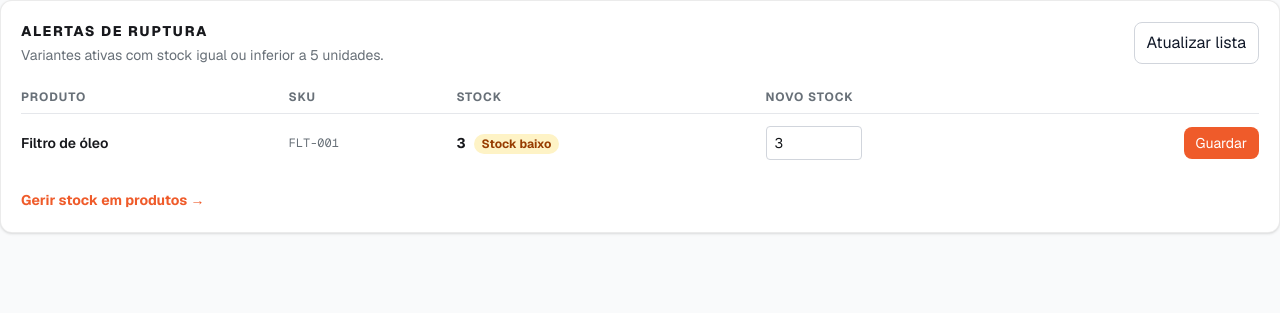
Scenario: InventoryAlerts › mostra o erro do servidor quando o stock é inválido
The image size is (1280, 313).
Replace the text in the number field named "Novo stock de FLT-001" with "-2": (814, 143) [766,126,862,160]
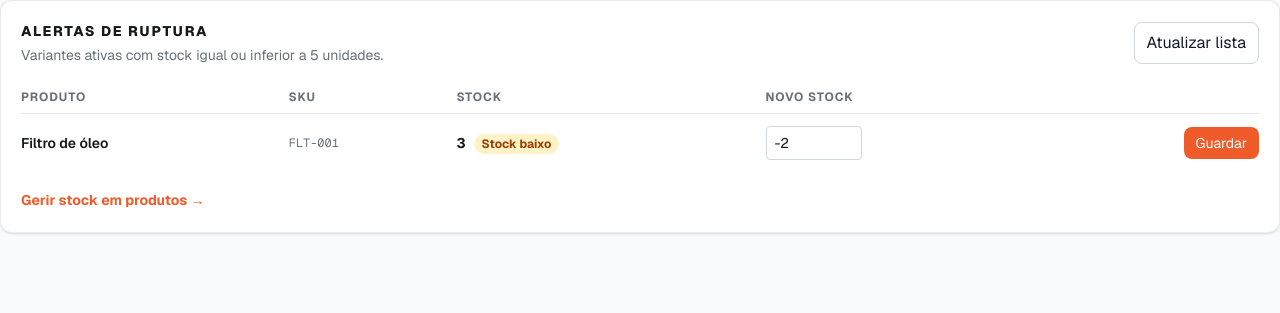
Click the button named "Guardar stock de FLT-001": (1221, 143) [1184,127,1259,159]
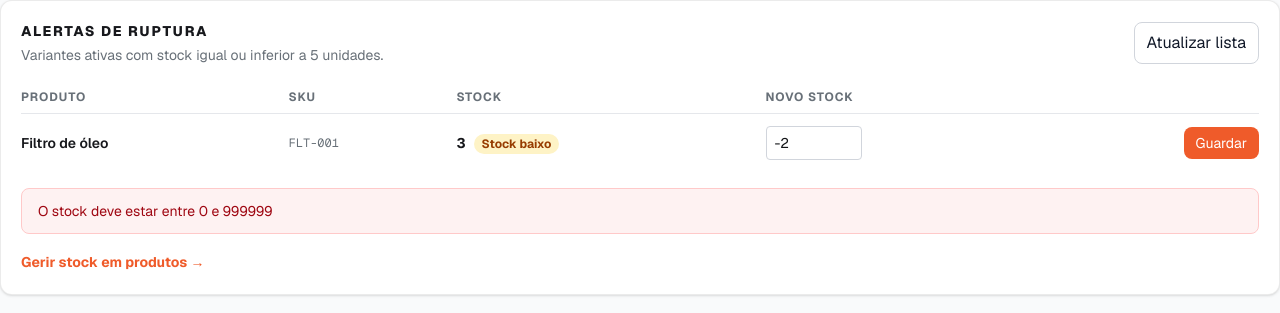
Expected: the message reads "O stock deve estar entre 0 e 999999", [38,202,273,220]
